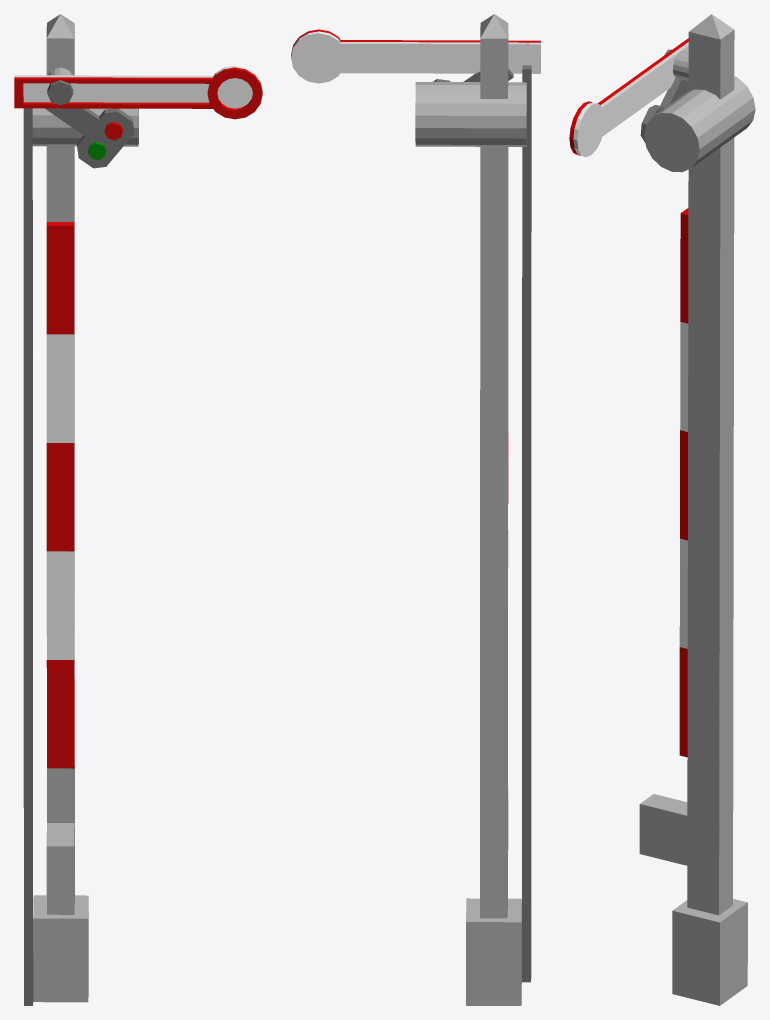
File: GMLID_2108434_31807_876.gltf
The picture shows the model from 3 angles, left to right: view 1: azimuth 30°, elevation 25°; view 2: azimuth 210°, elevation 25°; view 3: azimuth 270°, elevation 25°; orthographic projection.
Visible parts, largest first — view 1: Z_UP; view 2: Z_UP; view 3: Z_UP.
Boxes of the visible parts, x1,y1,x2,y2 form: Z_UP: (14,14,262,1005); Z_UP: (291,14,540,1005); Z_UP: (569,14,755,1005).
Bounding box in the file's own units: 2.86 × 14.04 × 2.43.
